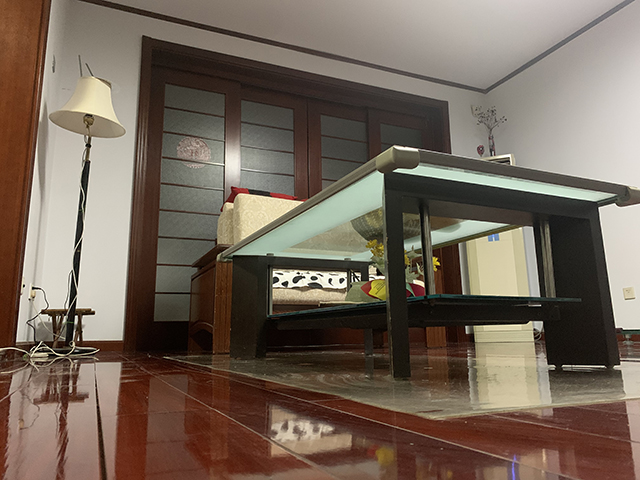stool: (39, 307, 97, 348)
table: (215, 143, 640, 380)
wire: (1, 345, 116, 360)
